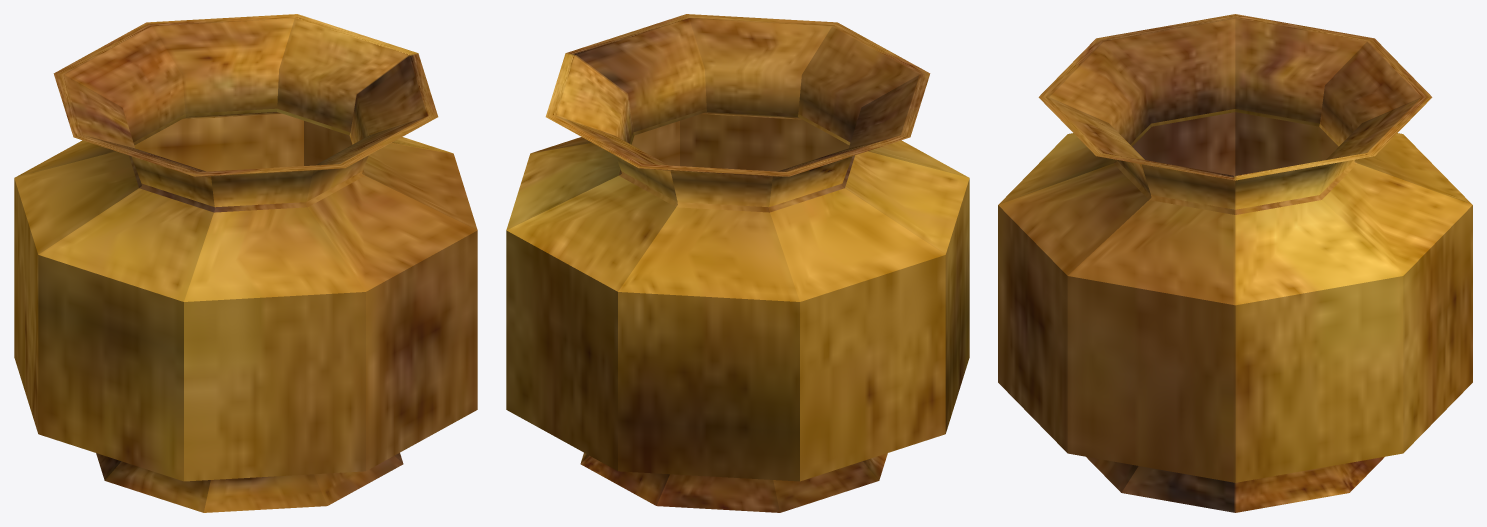
The model's file is myjarron1destruido.fbx.
3 views of the same model, side by side, from view 1: azimuth 30°, elevation 25°; view 2: azimuth 150°, elevation 25°; view 3: azimuth 270°, elevation 25° (orthographic).
Visible parts, largest first — view 1: pPipe2, pPipe6, pPipe3, pPipe4, pPipe5; view 2: pPipe2, pPipe6, pPipe4, pPipe5, pPipe3; view 3: pPipe2, pPipe5, pPipe3, pPipe4, pPipe6.
Part boxes in pixels (x1=…): pPipe2: x1=14, y1=14, x2=477, y2=301; pPipe6: x1=38, y1=255, x2=403, y2=512; pPipe3: x1=184, y1=292, x2=365, y2=481; pPipe4: x1=134, y1=114, x2=477, y2=470; pPipe5: x1=14, y1=121, x2=352, y2=433; pPipe2: x1=506, y1=14, x2=969, y2=301; pPipe6: x1=580, y1=178, x2=969, y2=512; pPipe4: x1=506, y1=114, x2=849, y2=470; pPipe5: x1=800, y1=255, x2=945, y2=481; pPipe3: x1=631, y1=121, x2=679, y2=165; pPipe2: x1=998, y1=14, x2=1472, y2=305; pPipe5: x1=1235, y1=112, x2=1403, y2=482; pPipe3: x1=1067, y1=276, x2=1235, y2=482; pPipe4: x1=998, y1=205, x2=1472, y2=452; pPipe6: x1=1086, y1=112, x2=1384, y2=512.
Bounding box in the file's own units: 21.52 × 17.38 × 21.52.
1 material, 1 textured.
